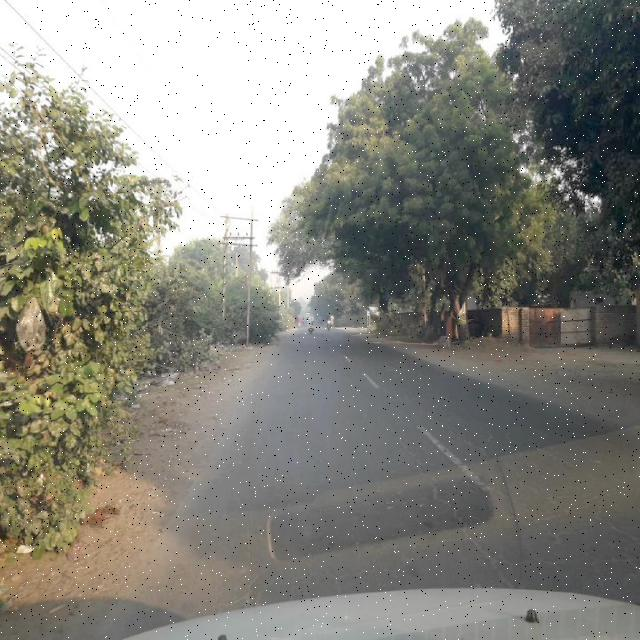D20: (396, 422, 639, 586)
